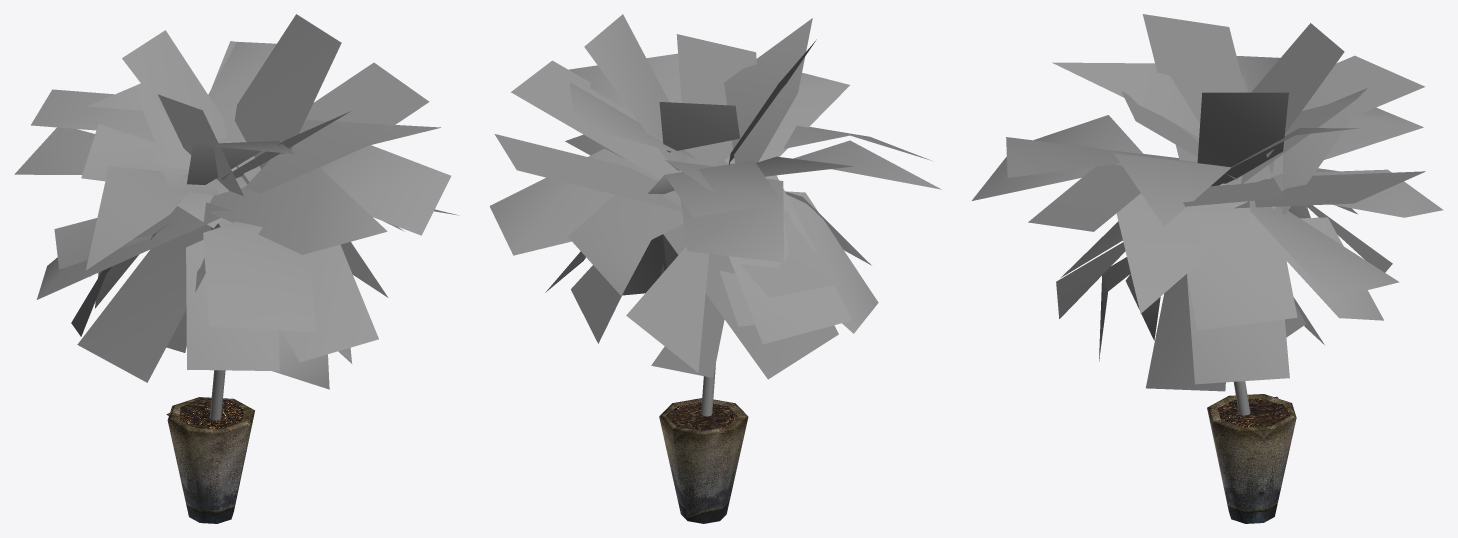
Rendered from Dracaena_leaf_lod2.fbx.
3 renders of one model, left to right at view 1: azimuth 30°, elevation 25°; view 2: azimuth 150°, elevation 25°; view 3: azimuth 270°, elevation 25°, orthographic. The views are drawn at different scales.
Parts seen in each view (by area): view 1: Dracaena_leaf_lod2; view 2: Dracaena_leaf_lod2; view 3: Dracaena_leaf_lod2.
Boxes of the visible parts, x1=… form: Dracaena_leaf_lod2: x1=14, y1=14, x2=459, y2=523; Dracaena_leaf_lod2: x1=489, y1=14, x2=941, y2=523; Dracaena_leaf_lod2: x1=972, y1=14, x2=1443, y2=523.
Size of the model in its own units: 109 by 128 by 115.
3 materials, 1 textured.
